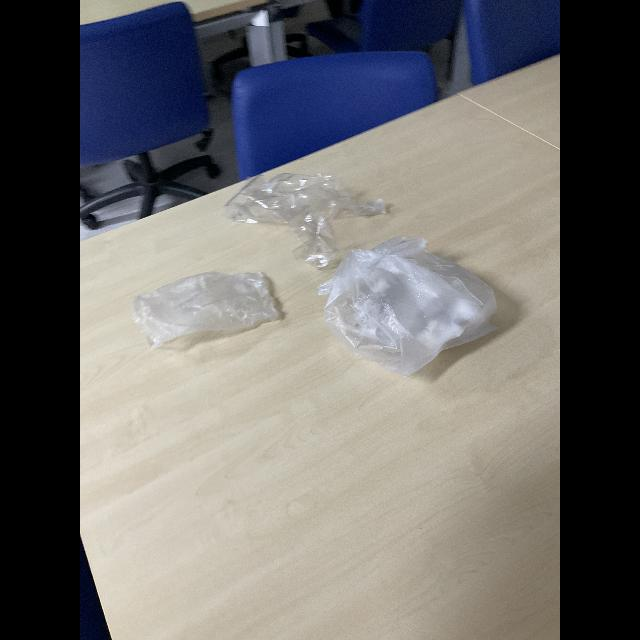plastic_bag: (325, 234, 507, 386), (218, 157, 394, 260), (132, 274, 284, 354)
